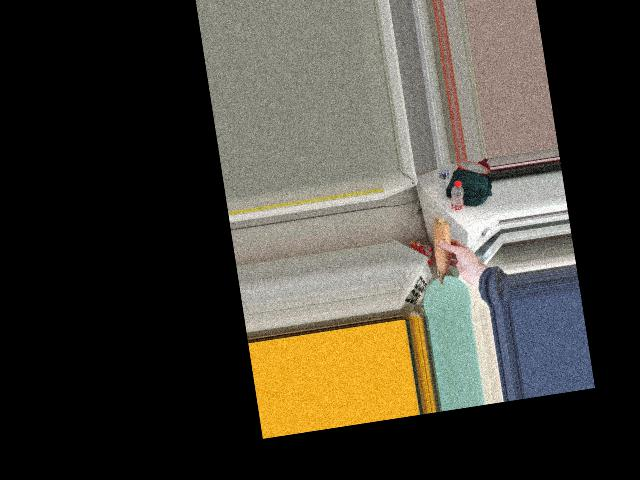sweet_potato: (424, 217, 458, 285)
